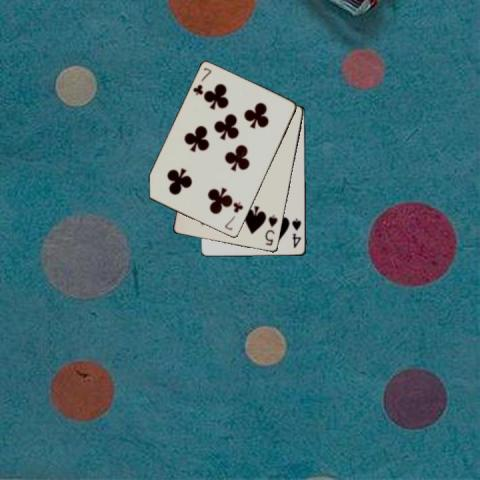4s: (289, 216, 303, 250)
5s: (262, 212, 279, 247)
7c: (222, 199, 245, 232), (190, 64, 213, 96)
